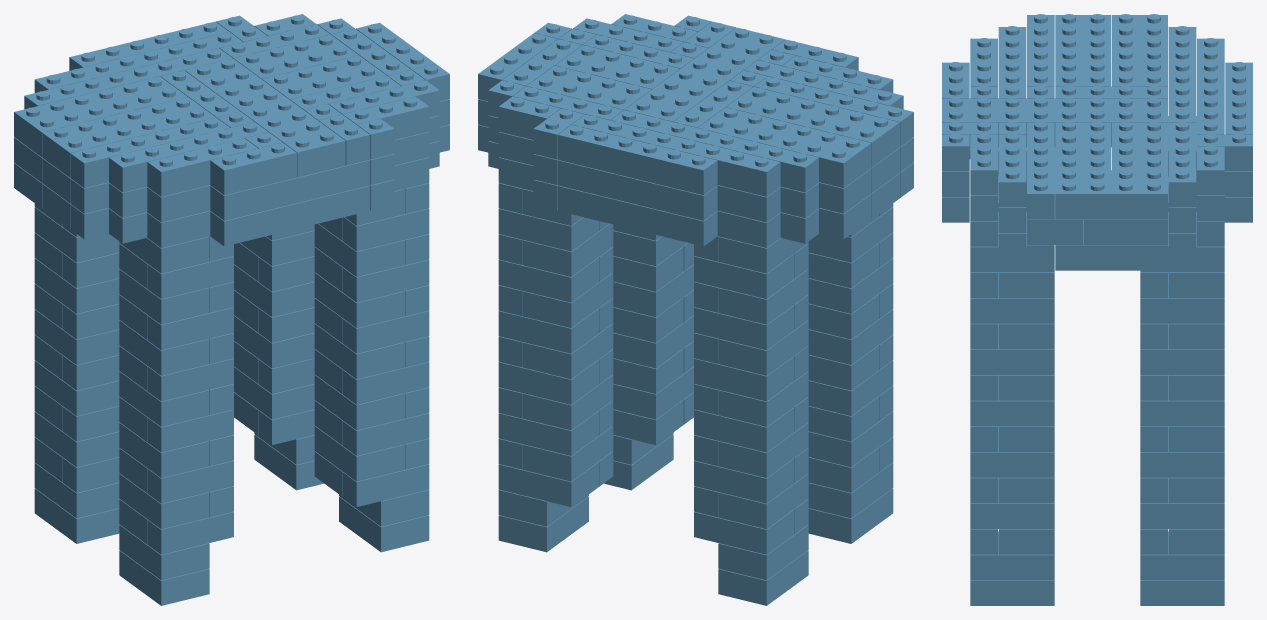
Rendered from 042_bench_L2.glb.
3 views of the same model, side by side, from view 1: azimuth 30°, elevation 25°; view 2: azimuth 150°, elevation 25°; view 3: azimuth 270°, elevation 25° (orthographic).
Bounding box in the file's own units: 14.98 × 17.13 × 10.98.
